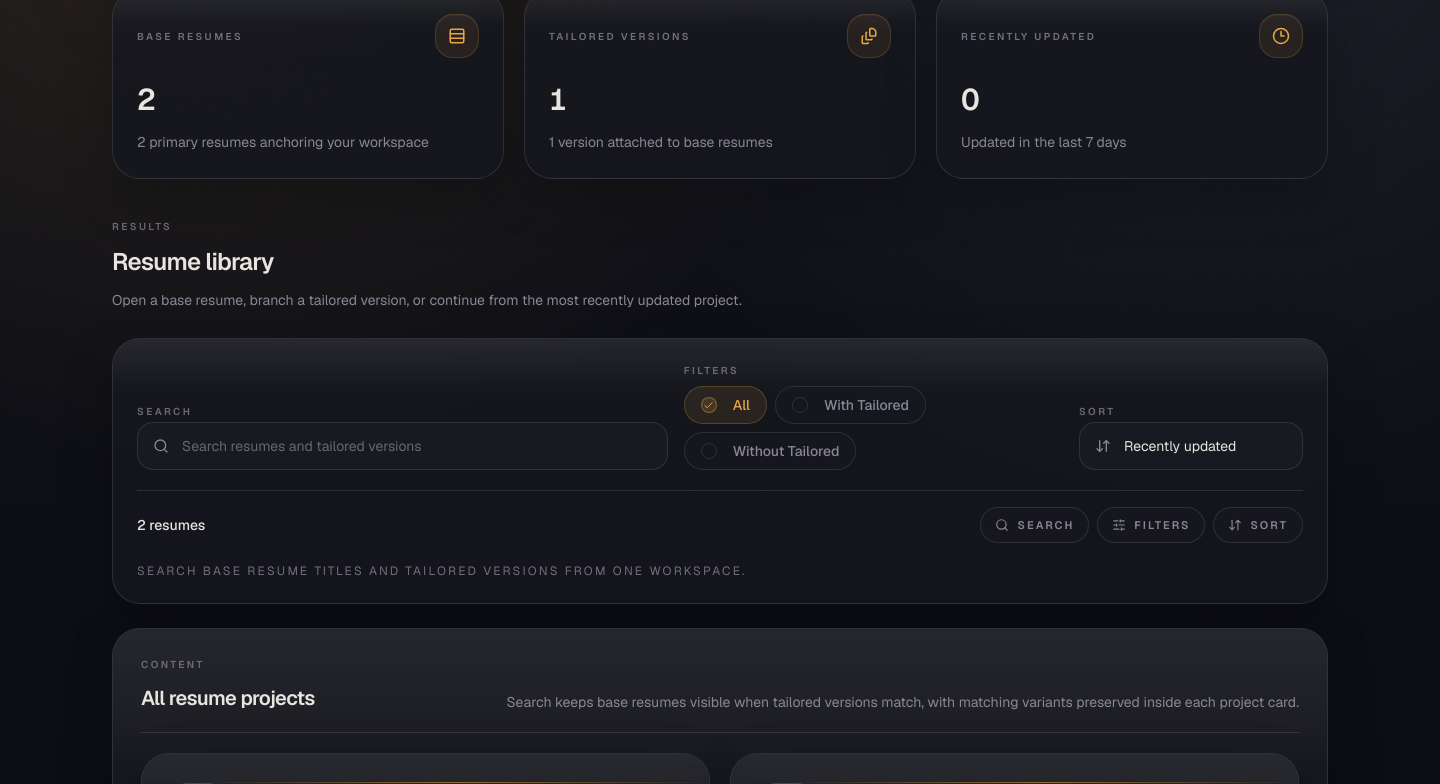
Test: DashboardPageClient › result summary text › shows the correct summary when a filter is active
This screenshot has width=1440, height=784.
(page scrolled)
Click the button "With Tailored". click: (850, 405)
box: [775, 386, 926, 424]
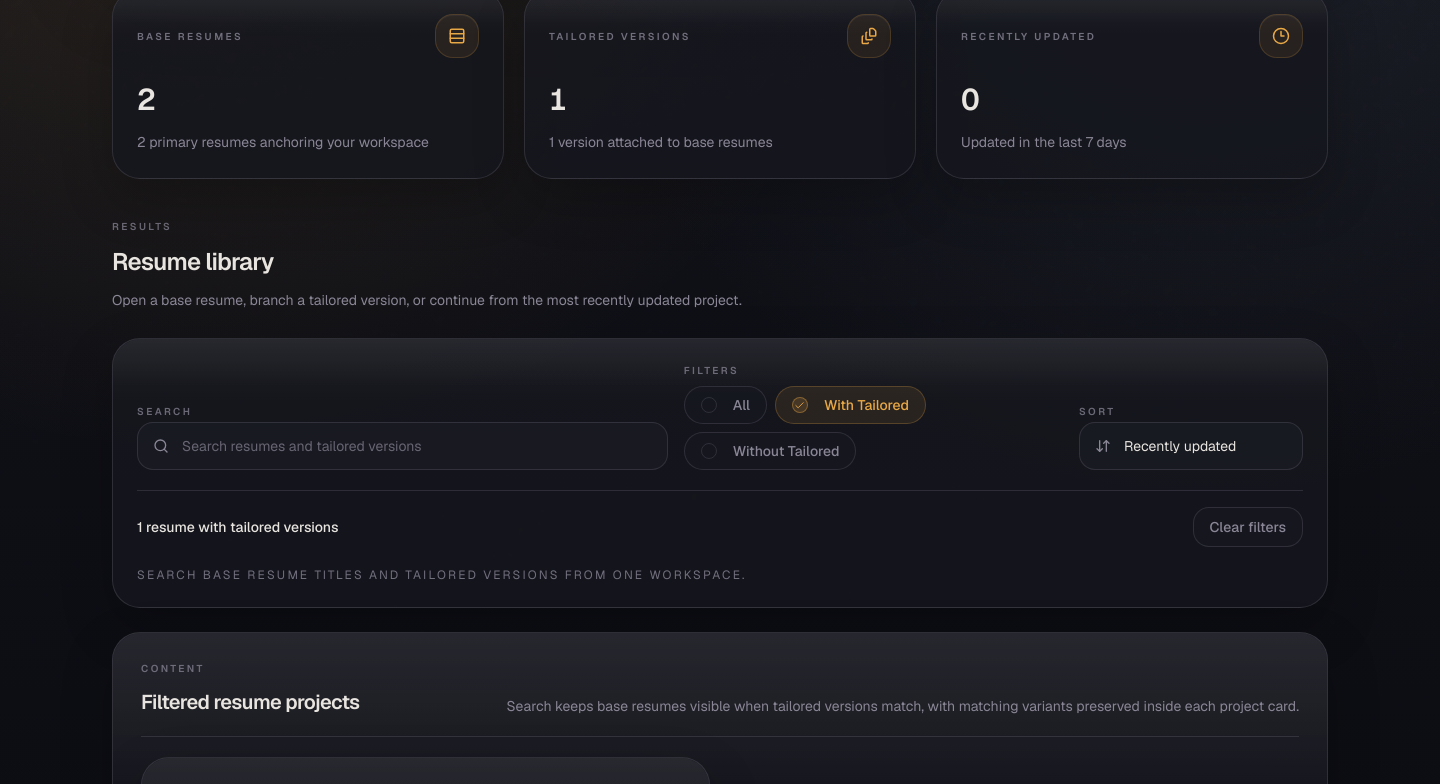
Result: the text "1 resume with tailored versions" is shown at [137, 517, 338, 537]
